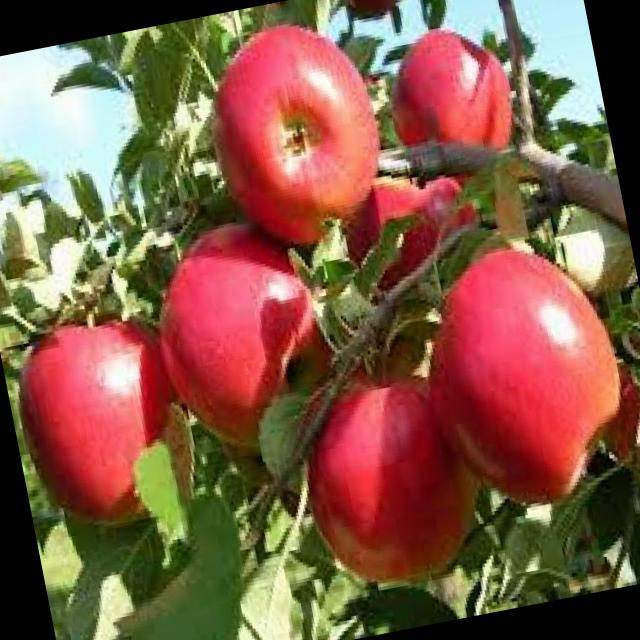Apple: (403, 227, 640, 523), (137, 207, 340, 465), (191, 8, 396, 256), (288, 361, 492, 594), (2, 304, 194, 536), (375, 14, 523, 190), (333, 158, 488, 296), (333, 0, 412, 26)
